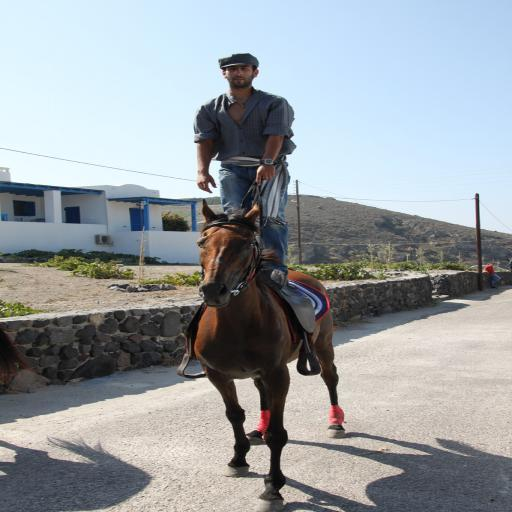Horse: (192, 199, 349, 512)
